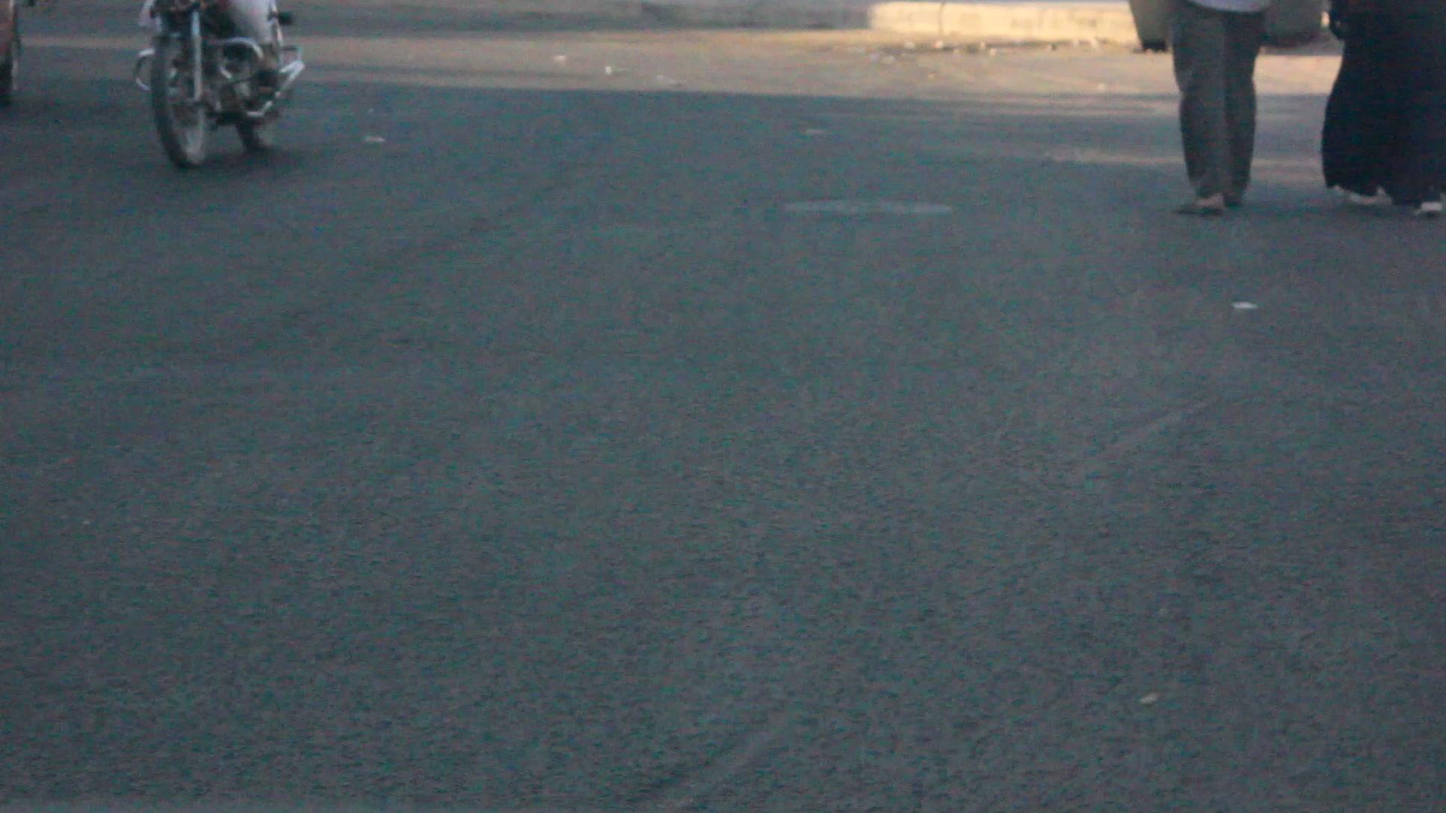Bump: (0, 365, 1446, 593)
